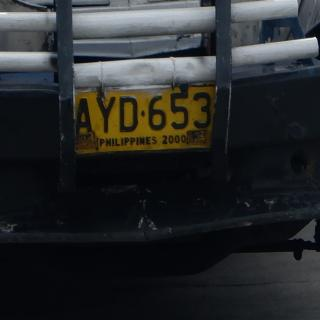license: (77, 87, 216, 154)
